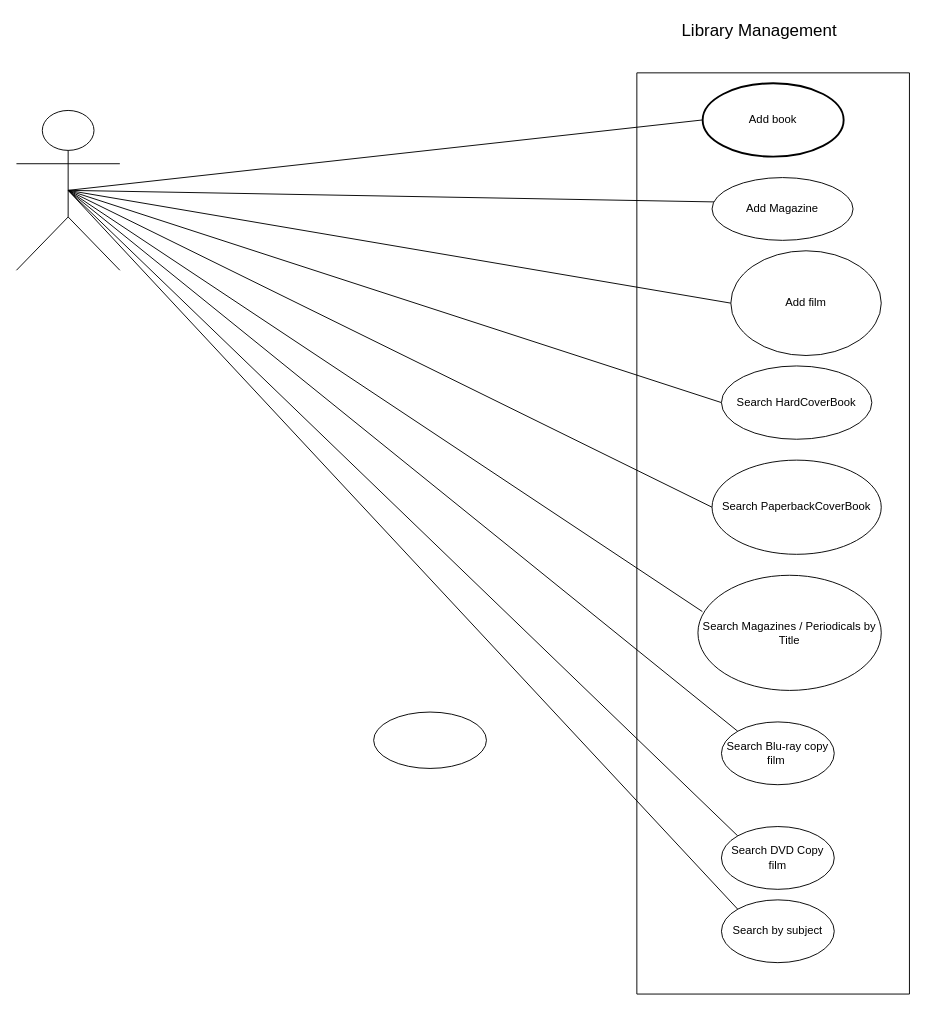
Some shapes in this 926 by 1011 pixel diagram are drawn without their labels. The shapes that lost their labels are listed below. From the top down, each one's centre as x and y in pixels, then its label:
At point 68,190: "User".
At point 429,739: "Search Periodicals by Title".
